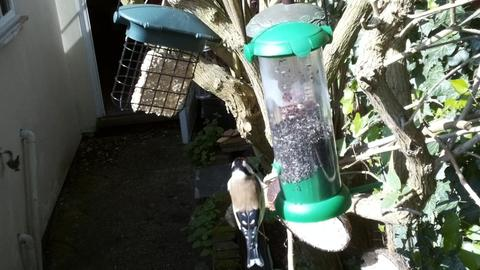goldfinch: (227, 157, 265, 268)
